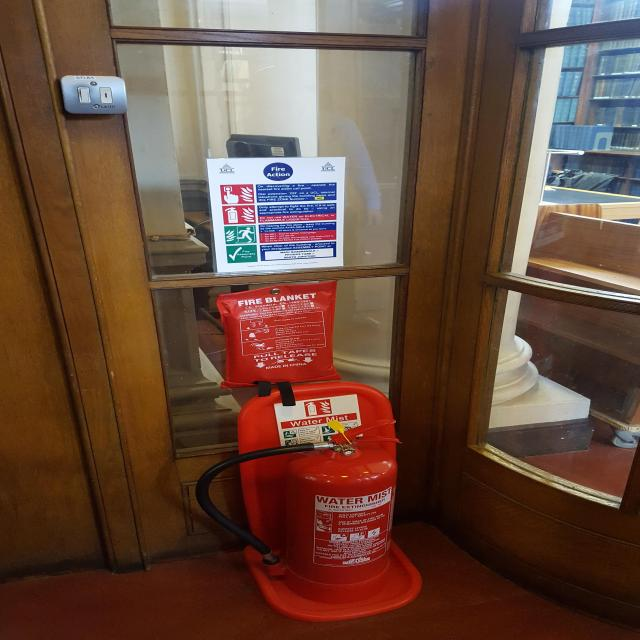fire_extinguisher: (194, 413, 412, 607)
